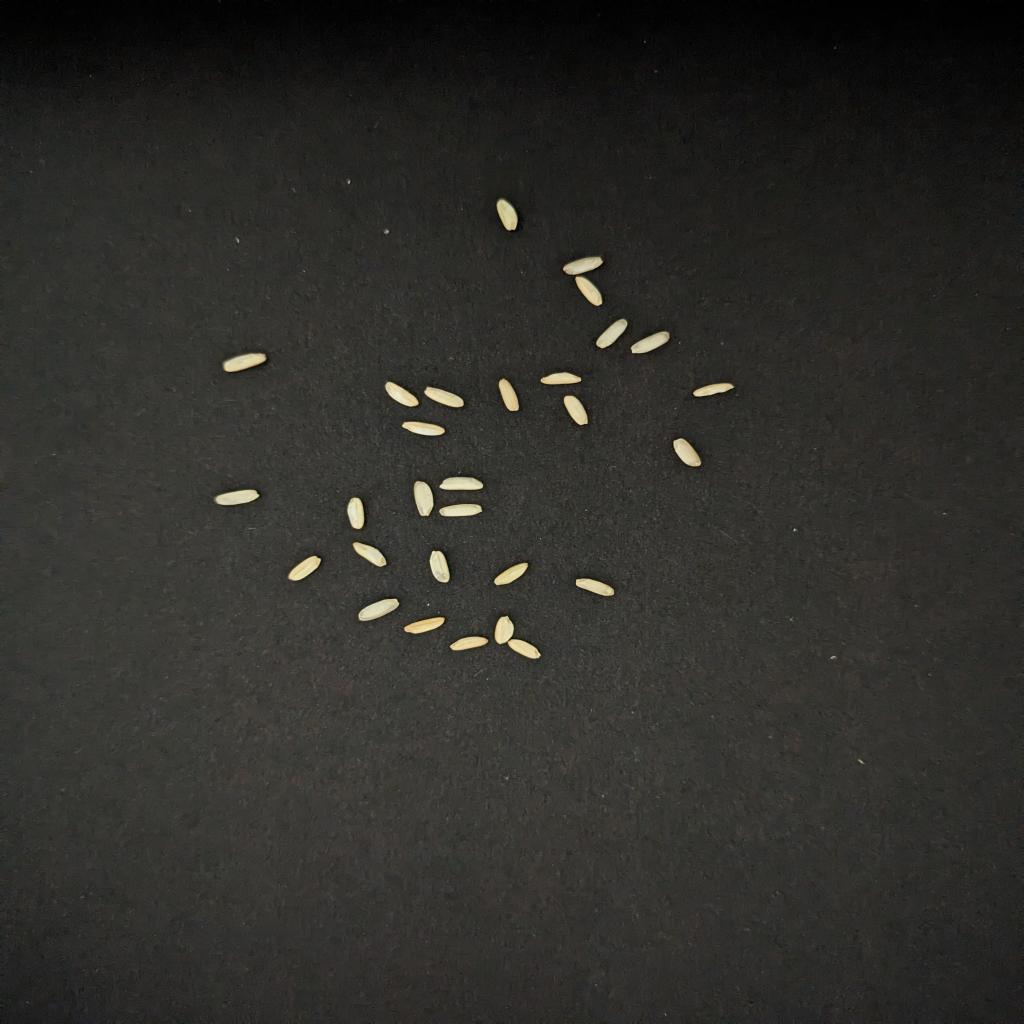chalky: (357, 598, 400, 622), (597, 318, 629, 348), (631, 332, 671, 354), (424, 386, 463, 408), (224, 352, 266, 372), (386, 382, 418, 408), (352, 542, 386, 566), (288, 556, 322, 580), (493, 562, 527, 586), (575, 276, 602, 306), (562, 256, 602, 276), (495, 198, 519, 230), (674, 438, 701, 466), (413, 480, 434, 516), (565, 396, 589, 426), (575, 578, 615, 596), (405, 616, 445, 634), (498, 378, 519, 412), (693, 382, 735, 398), (216, 490, 258, 506), (429, 550, 450, 582), (439, 476, 485, 490), (509, 638, 541, 658), (346, 498, 365, 530), (402, 422, 445, 436), (493, 616, 514, 644), (450, 636, 487, 650), (439, 504, 482, 516), (541, 372, 581, 384)
